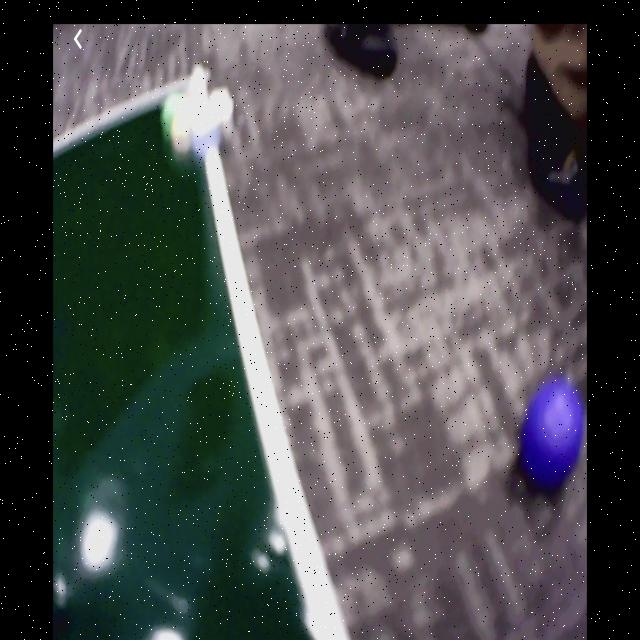ball: (524, 387, 582, 486)
